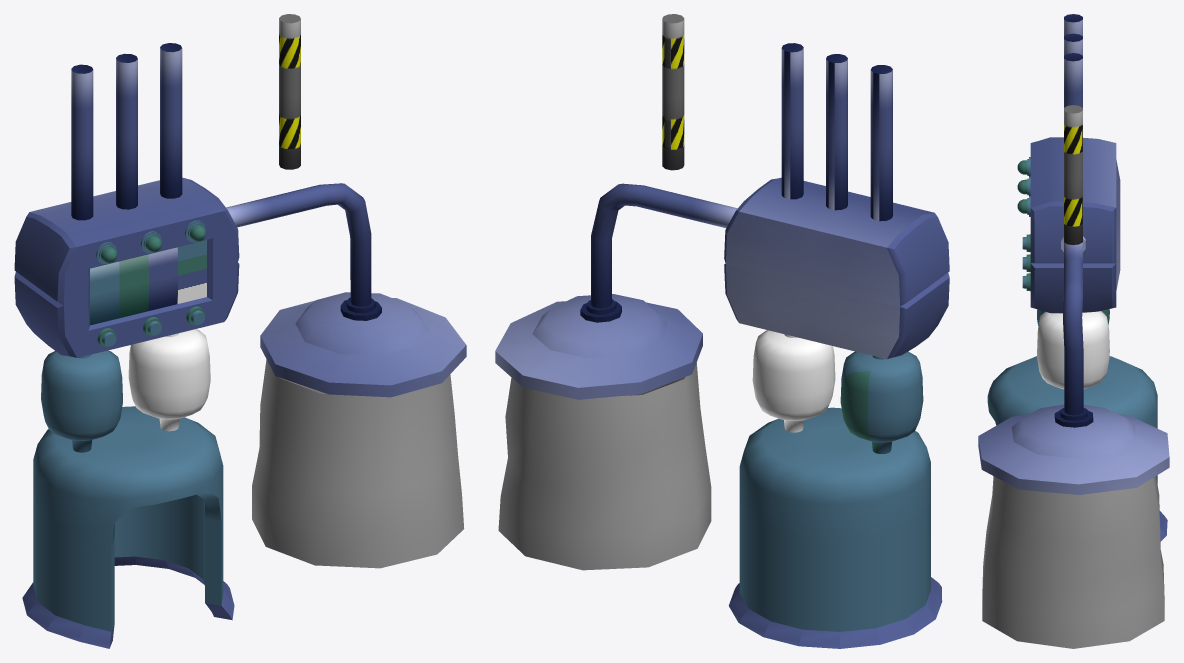
File: CloneMachine.fbx
3 renders of one model, left to right at view 1: azimuth 30°, elevation 25°; view 2: azimuth 150°, elevation 25°; view 3: azimuth 270°, elevation 25°, orthographic. The views are drawn at different scales.
Parts seen in each view (by area): view 1: pCylinder1, polySurface22, polySurface19, polySurface14, polySurface16, polySurface21, polySurface20, polySurface17, polySurface24, polySurface18, polySurface41, polySurface23; view 2: polySurface22, pCylinder1, polySurface19, polySurface14, polySurface21, polySurface20, polySurface17, polySurface18, polySurface41, polySurface24, polySurface23; view 3: pCylinder1, polySurface14, polySurface19, polySurface22, polySurface17, polySurface20, polySurface41, polySurface18, polySurface24, polySurface23.
Boxes of the visible parts, x1,y1,x2,y2 form: pCylinder1: [252, 359, 464, 568]; polySurface22: [22, 406, 234, 648]; polySurface19: [14, 177, 239, 357]; polySurface14: [260, 292, 466, 397]; polySurface16: [90, 240, 206, 325]; polySurface21: [41, 350, 122, 452]; polySurface20: [128, 329, 210, 431]; polySurface17: [226, 183, 381, 320]; polySurface24: [71, 64, 93, 220]; polySurface18: [160, 43, 182, 198]; polySurface41: [279, 14, 300, 169]; polySurface23: [116, 53, 137, 209]; polySurface22: [728, 407, 942, 648]; pCylinder1: [498, 363, 711, 570]; polySurface19: [724, 177, 949, 358]; polySurface14: [495, 294, 702, 399]; polySurface21: [840, 351, 923, 454]; polySurface20: [752, 330, 835, 432]; polySurface17: [580, 183, 737, 322]; polySurface18: [781, 43, 803, 199]; polySurface41: [662, 14, 684, 170]; polySurface24: [870, 65, 892, 221]; polySurface23: [826, 54, 847, 210]; pCylinder1: [982, 476, 1164, 648]; polySurface14: [978, 404, 1169, 494]; polySurface19: [1030, 137, 1120, 313]; polySurface22: [987, 356, 1167, 541]; polySurface17: [1054, 236, 1093, 427]; polySurface20: [1037, 311, 1109, 389]; polySurface41: [1064, 105, 1082, 245]; polySurface18: [1064, 53, 1082, 107]; polySurface24: [1064, 14, 1082, 36]; polySurface23: [1064, 33, 1082, 55].
Size of the model in its own units: 12.75 by 15.98 by 5.67.
Materials: 3 (2 with a texture image).
